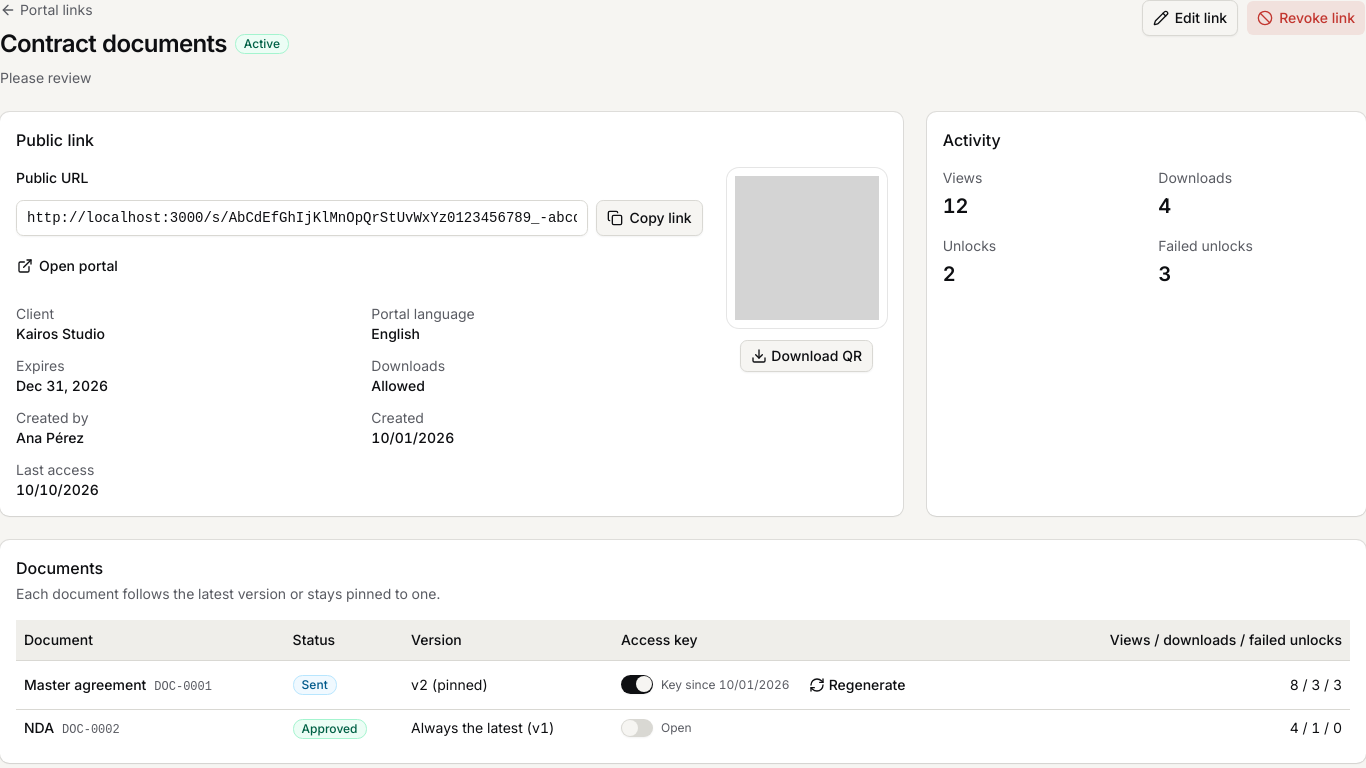
Test case: ShareDetail › shows a regenerated key once and never again after closing
Click the button with aria-label "Regenerate the key of Master agreement": click(857, 684) 798,668 -> 916,700
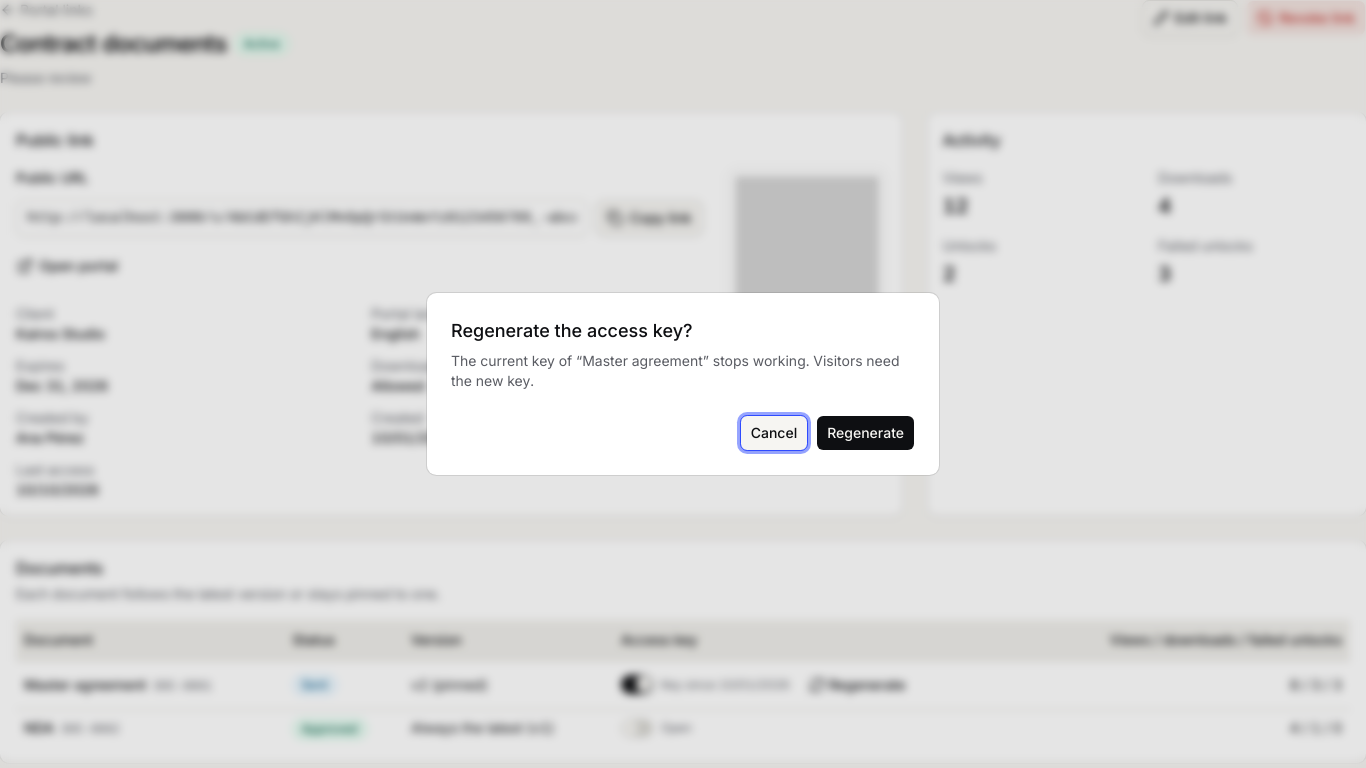
Click the button "Regenerate": click(866, 433) 816,415 -> 915,451
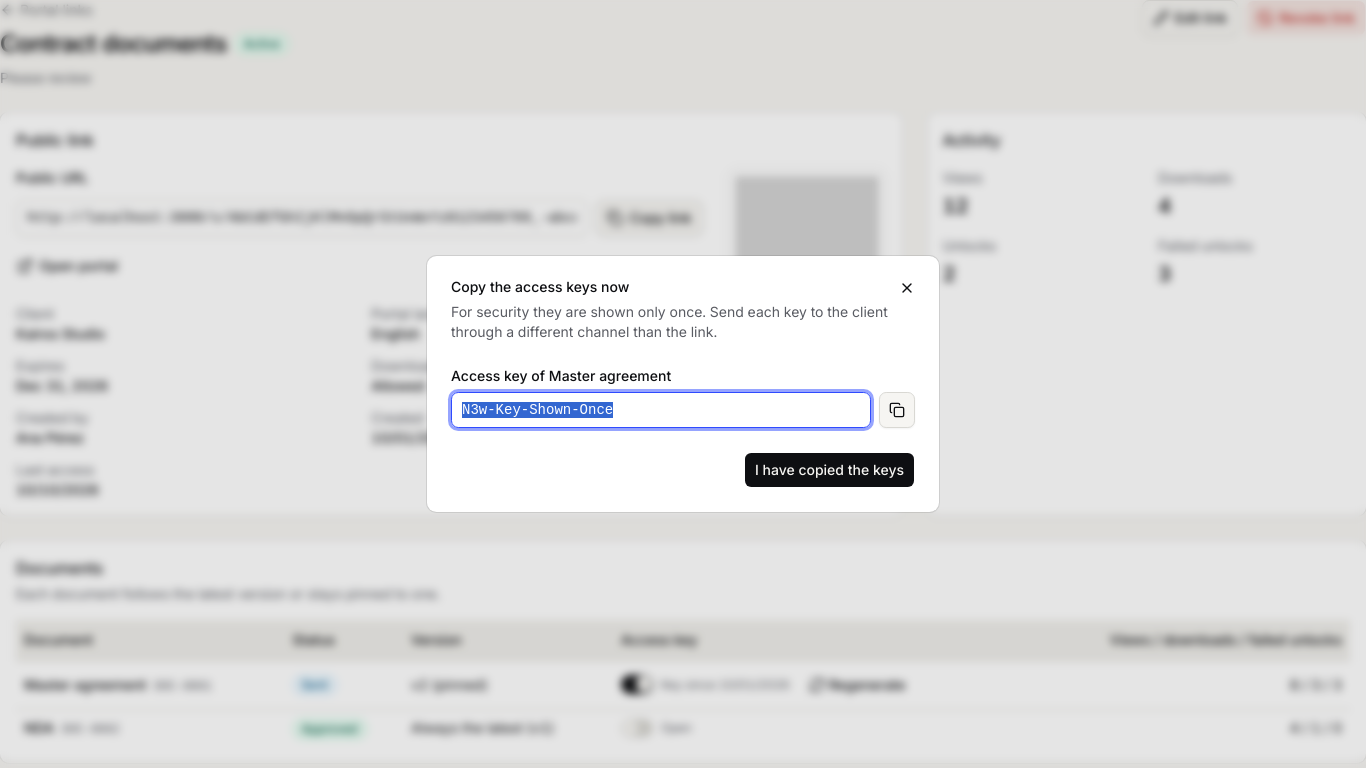
Result: the field showing "N3w-Key-Shown-Once" is shown at 451,392 -> 871,428
Click the button "I have copied the keys": click(829, 470) 744,452 -> 915,488
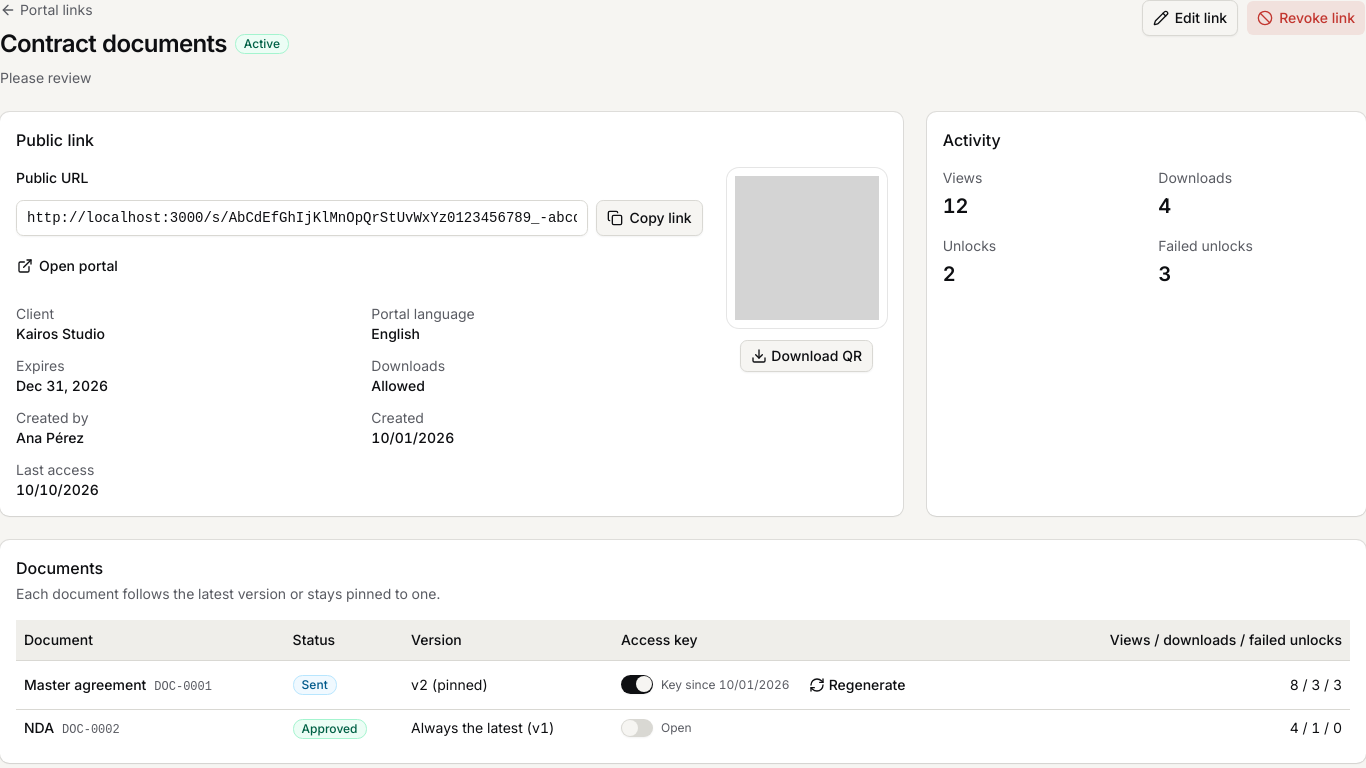
Expected: the field showing "N3w-Key-Shown-Once" is not shown
Result: the heading "Copy the access keys now" is gone
